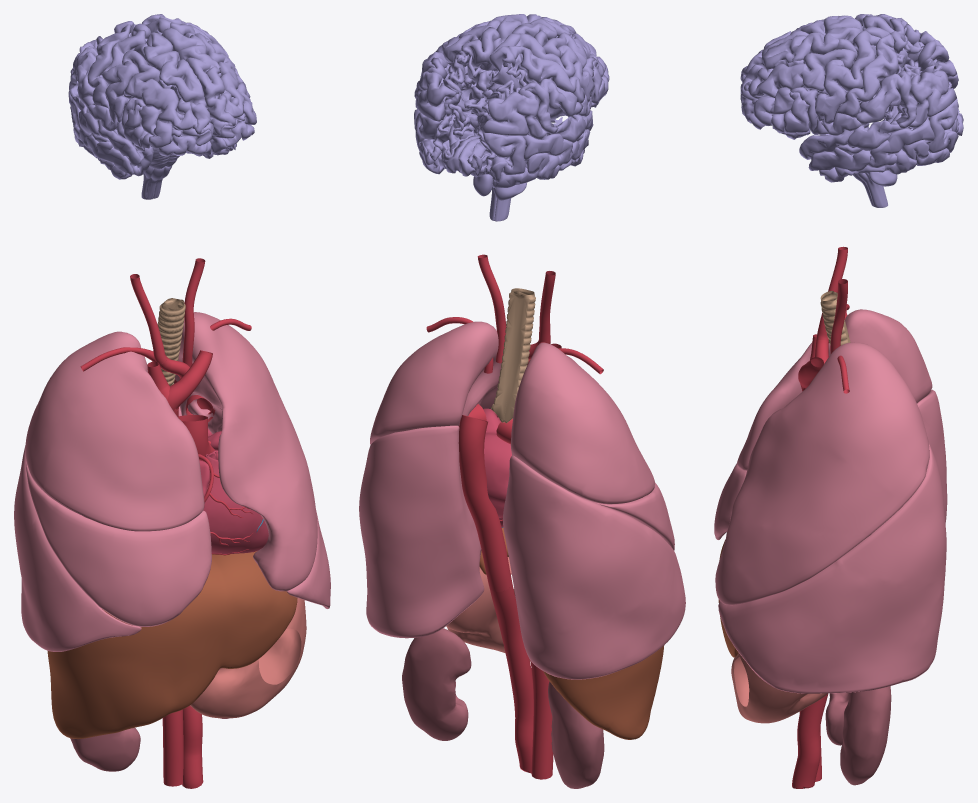
The model's file is internal-organs.glb.
3 renders of one model, left to right at view 1: azimuth 30°, elevation 25°; view 2: azimuth 150°, elevation 25°; view 3: azimuth 270°, elevation 25°, orthographic. The views are drawn at different scales.
Parts seen in each view (by area): view 1: lungs, brain, liver, arteries, stomach, heart, kidneys, trachea; view 2: lungs, brain, arteries, kidneys, liver, trachea, stomach, heart; view 3: lungs, brain, kidneys, arteries, stomach, trachea.
Boxes of the visible parts, bbox=[...] form: lungs: bbox=[14, 312, 330, 651]; brain: bbox=[68, 14, 256, 199]; liver: bbox=[47, 551, 297, 738]; arteries: bbox=[80, 258, 255, 788]; stomach: bbox=[190, 598, 306, 718]; heart: bbox=[199, 429, 268, 553]; kidneys: bbox=[70, 718, 228, 771]; trachea: bbox=[152, 298, 185, 385]; lungs: bbox=[359, 321, 685, 679]; brain: bbox=[414, 14, 609, 221]; arteries: bbox=[426, 254, 603, 779]; kidneys: bbox=[402, 628, 604, 788]; liver: bbox=[479, 528, 664, 739]; trachea: bbox=[491, 288, 535, 423]; stomach: bbox=[446, 557, 530, 661]; heart: bbox=[483, 408, 511, 527]; lungs: bbox=[714, 309, 947, 693]; brain: bbox=[740, 14, 963, 207]; kidneys: bbox=[825, 686, 891, 785]; arteries: bbox=[792, 246, 849, 788]; stomach: bbox=[731, 652, 827, 723]; trachea: bbox=[820, 291, 850, 345].
Size of the model in its own units: 26.1 by 67.1 by 19.88.
